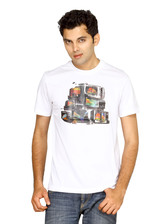clothoes: (26, 58, 141, 196)
